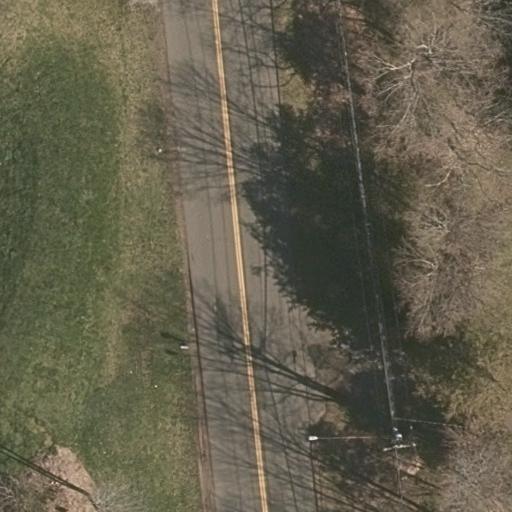DT: (379, 441, 419, 455)
